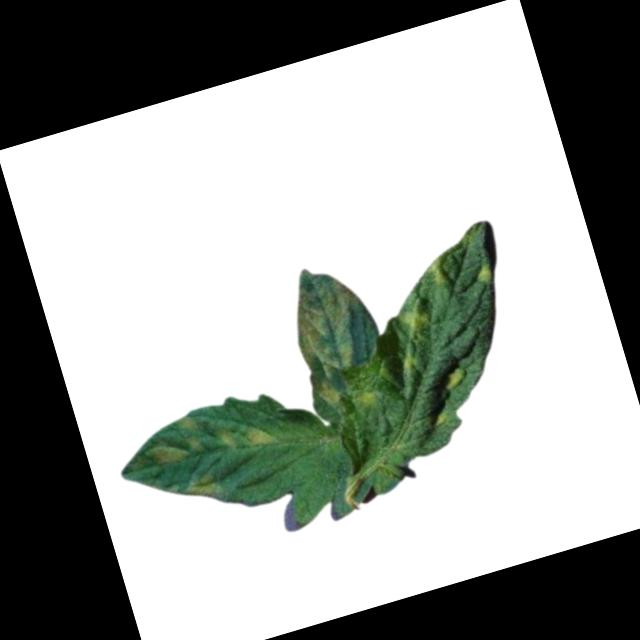Leaf_Mold: (274, 260, 389, 415), (139, 413, 208, 468), (214, 411, 279, 460), (387, 302, 437, 348), (181, 471, 225, 507), (388, 343, 426, 381), (421, 252, 455, 291), (348, 381, 384, 417), (465, 260, 497, 287), (436, 365, 465, 391)
